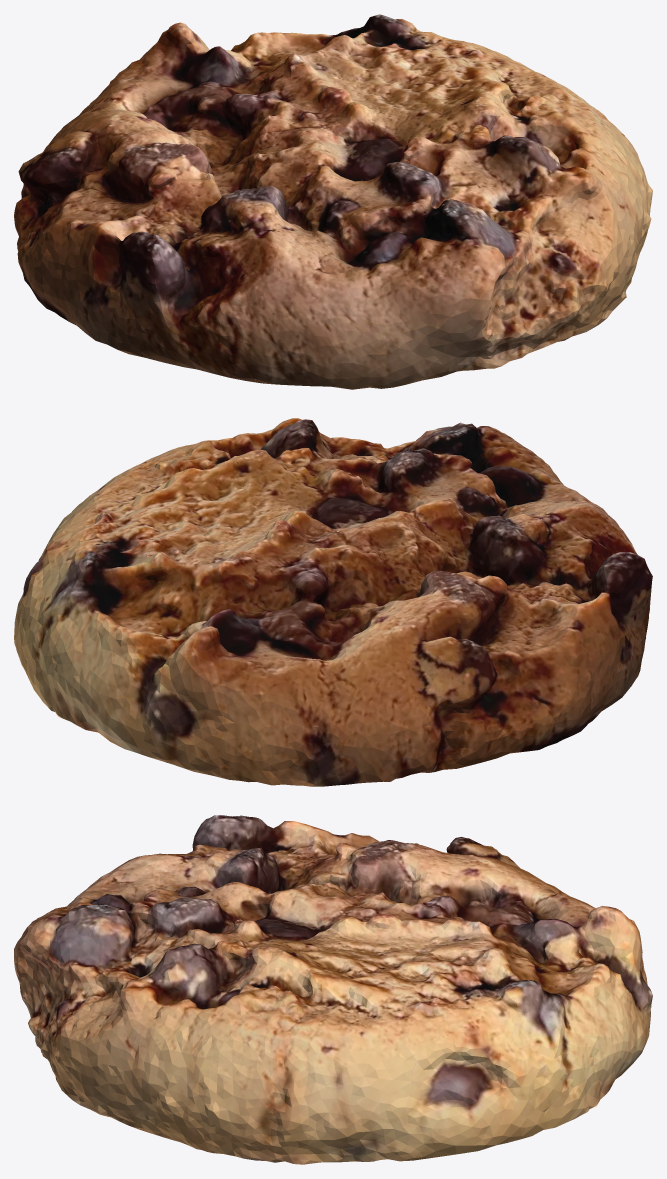
The model's file is Cookie_lt.glb.
3 views of the same model, one above another, from view 1: azimuth 30°, elevation 25°; view 2: azimuth 150°, elevation 25°; view 3: azimuth 270°, elevation 25° (orthographic). The views are drawn at different scales.
Bounding box in the file's own units: 0.0638 × 0.0165 × 0.0662.
1 material, 1 textured.
